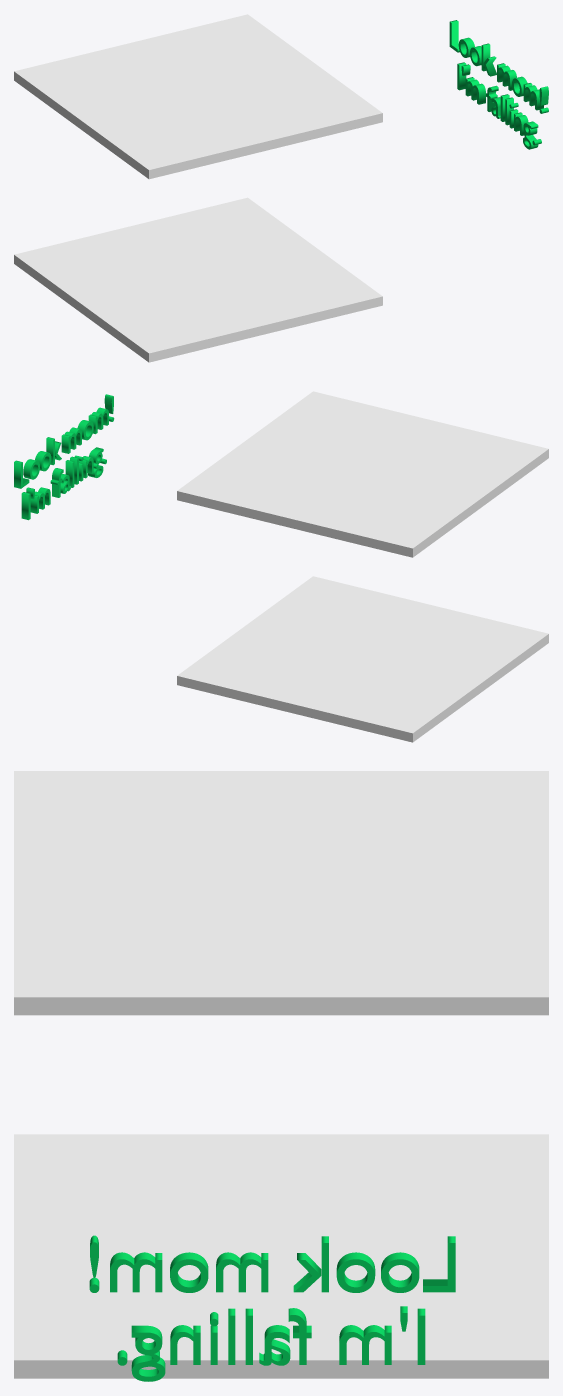
File: level3-A_FcH9cI.glb
The picture shows the model from 3 angles, top to bottom: view 1: azimuth 30°, elevation 25°; view 2: azimuth 150°, elevation 25°; view 3: azimuth 270°, elevation 25°; orthographic projection. The views are drawn at different scales.
Parts seen in each view (by area): view 1: Cube, Cube.001, Text_X; view 2: Cube, Cube.001, Text_X; view 3: Cube.001, Cube, Text_X.
Boxes of the visible parts, x1,y1,x2,y2 form: Cube: (14,197,382,362); Cube.001: (14,14,382,179); Text_X: (449,20,548,149); Cube: (177,576,548,742); Cube.001: (177,391,548,557); Text_X: (14,394,114,520); Cube.001: (14,771,548,1015); Cube: (14,1134,548,1378); Text_X: (89,1235,455,1381).
Bounding box in the file's own units: 47.85 × 21 × 26.7.
